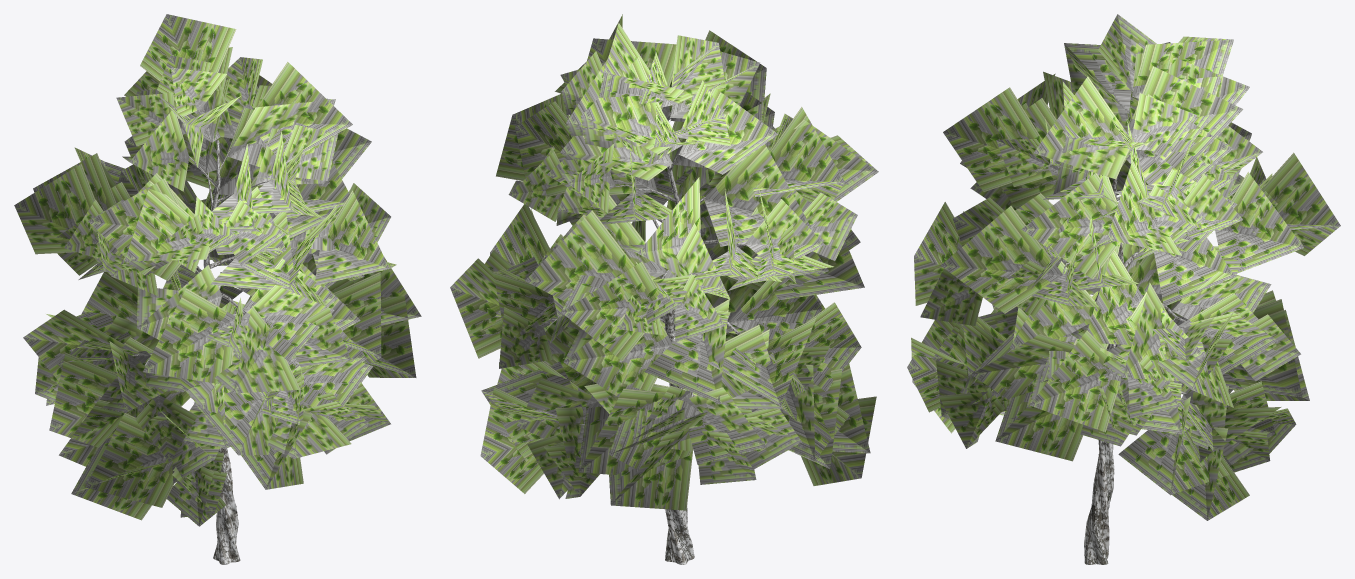
The model's file is birch03.obj.
3 views of the same model, side by side, from view 1: azimuth 30°, elevation 25°; view 2: azimuth 150°, elevation 25°; view 3: azimuth 270°, elevation 25° (orthographic). The views are drawn at different scales.
Visible parts, largest first — view 1: tree; view 2: tree; view 3: tree.
Boxes of the visible parts, <box> form: tree: <box>14,14,421,564</box>; tree: <box>450,14,878,564</box>; tree: <box>907,14,1340,564</box>.
Bounding box in the file's own units: 170 × 245 × 181.
2 materials, 2 textured.
